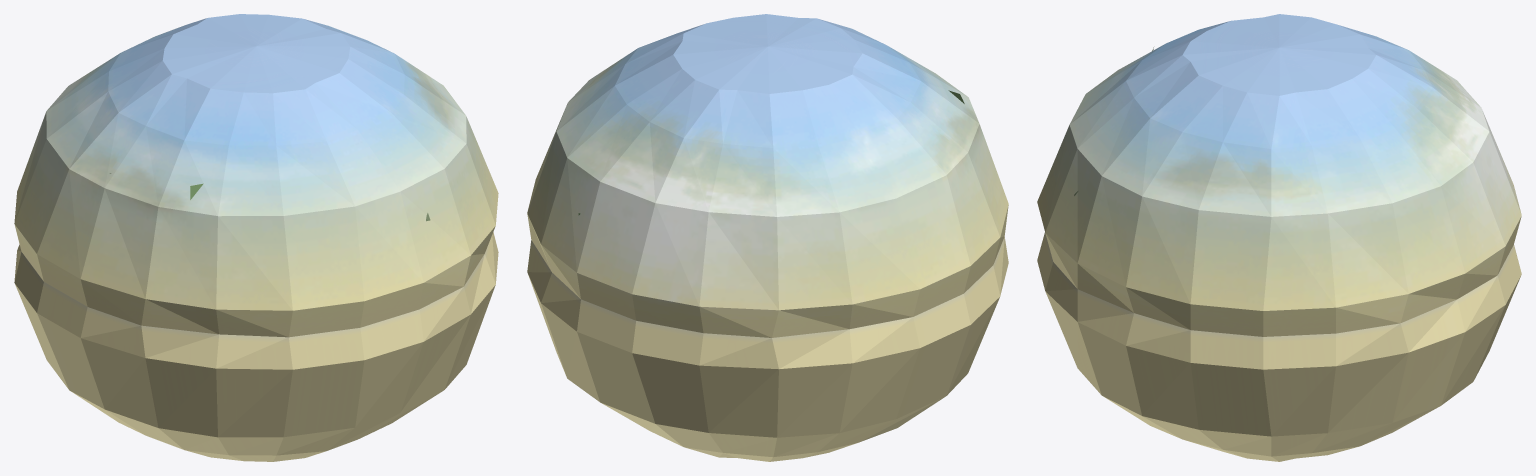
Rendered from C1_PLANOFATTACK_SKY.obj.
3 renders of one model, left to right at view 1: azimuth 30°, elevation 25°; view 2: azimuth 150°, elevation 25°; view 3: azimuth 270°, elevation 25°, orthographic.
Visible parts, largest first — view 1: Node 0; view 2: Node 0; view 3: Node 0.
Boxes of the visible parts, bbox=[...] form: Node 0: bbox=[14, 14, 498, 461]; Node 0: bbox=[527, 14, 1008, 461]; Node 0: bbox=[1037, 14, 1521, 461].
Bounding box in the file's own units: 0.6 × 0.53 × 0.6.
Materials: 14 (14 with a texture image).
